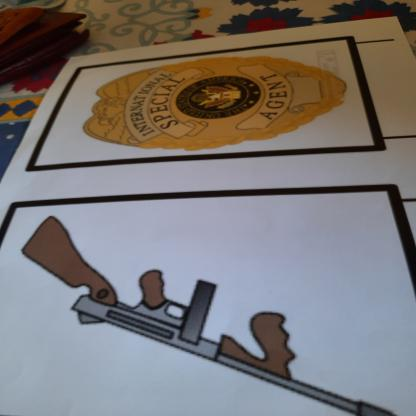Bootlegger: (10, 205, 416, 416)
G-man: (84, 51, 358, 159)
